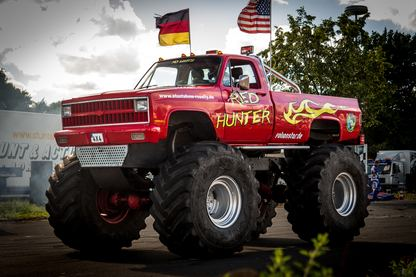truck: (45, 45, 372, 259)
